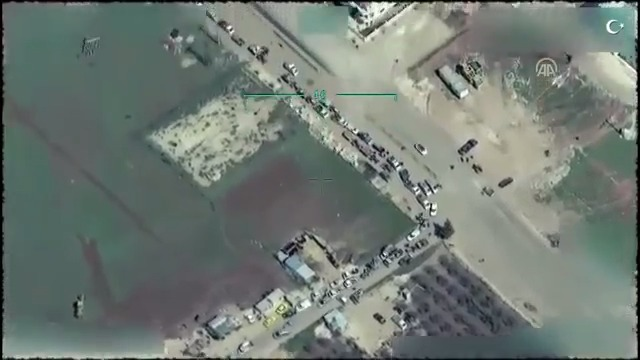arac: (311, 101, 333, 122), (295, 292, 312, 313), (284, 58, 302, 75), (403, 228, 424, 241), (414, 140, 429, 158), (431, 195, 441, 219), (388, 155, 400, 174), (416, 191, 428, 209), (276, 301, 291, 314)
